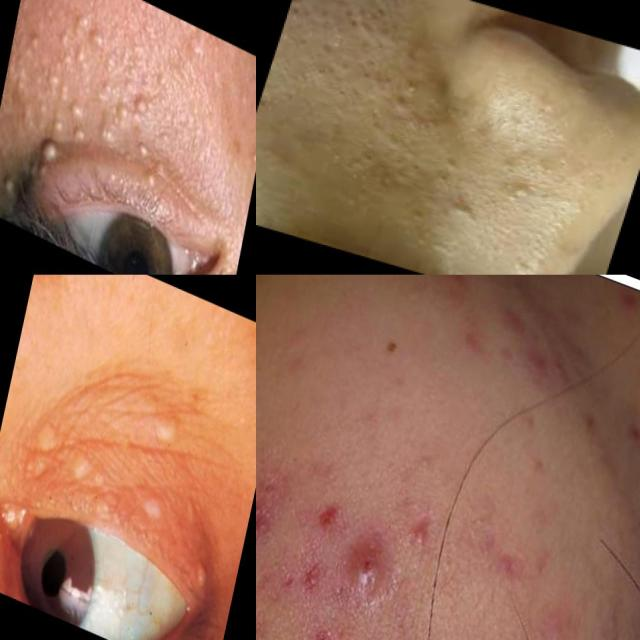acne_scars: (483, 535, 533, 599)
comedone: (348, 17, 438, 108), (384, 411, 464, 502), (391, 121, 469, 200), (312, 0, 380, 50), (331, 132, 387, 192), (489, 170, 535, 216), (280, 0, 316, 44)
cystic: (330, 510, 409, 625)
milium: (96, 74, 166, 177), (52, 5, 106, 86), (46, 74, 94, 157), (0, 166, 22, 203), (240, 126, 256, 175)
pustule: (402, 506, 436, 556)
syringoma: (8, 411, 178, 553), (131, 394, 189, 458)
